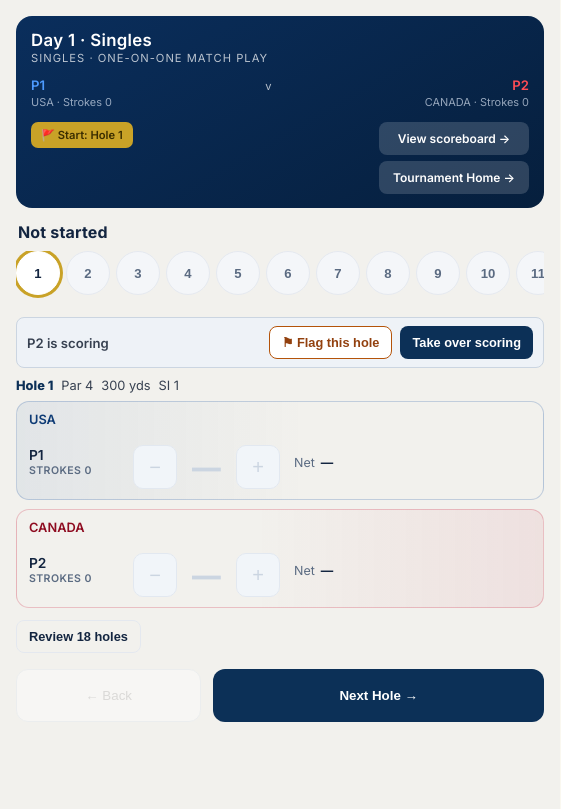
Test case: match scorecard — flag this hole (B) › a non-scorer flags several holes — later flags ADD to the set, never replace
# Flag hole 1 (current).
Click the button with test id "flag-hole-500". click: (331, 342)
box: [269,326,392,359]
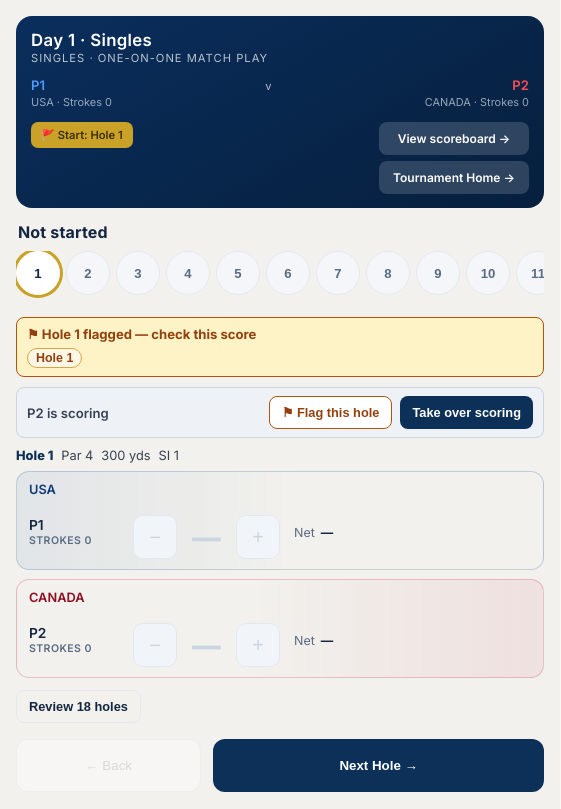
# Move to hole 2 and flag it too — the earlier hole 1 is NOT lost.
Click the button with test id "hole-dot-2". click: (88, 273)
box: [66,251,110,295]
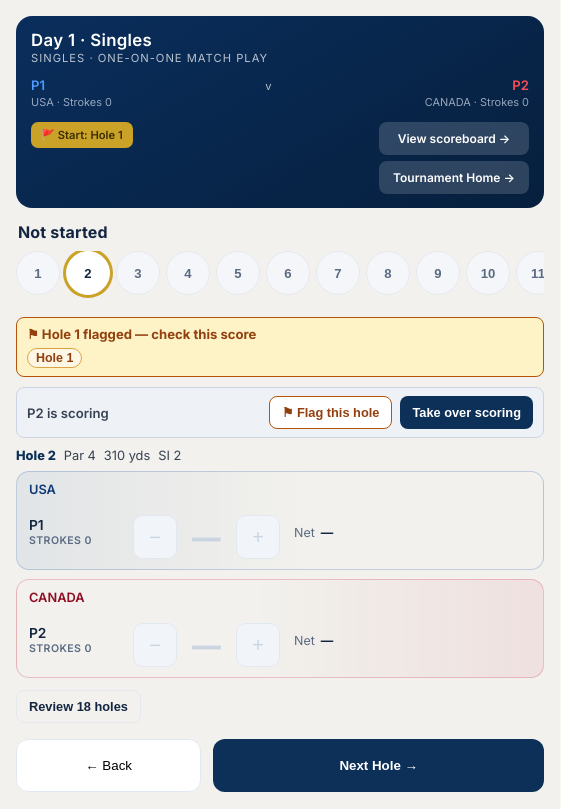
Click the button with test id "flag-hole-500". click: (331, 412)
box: [269,396,392,429]
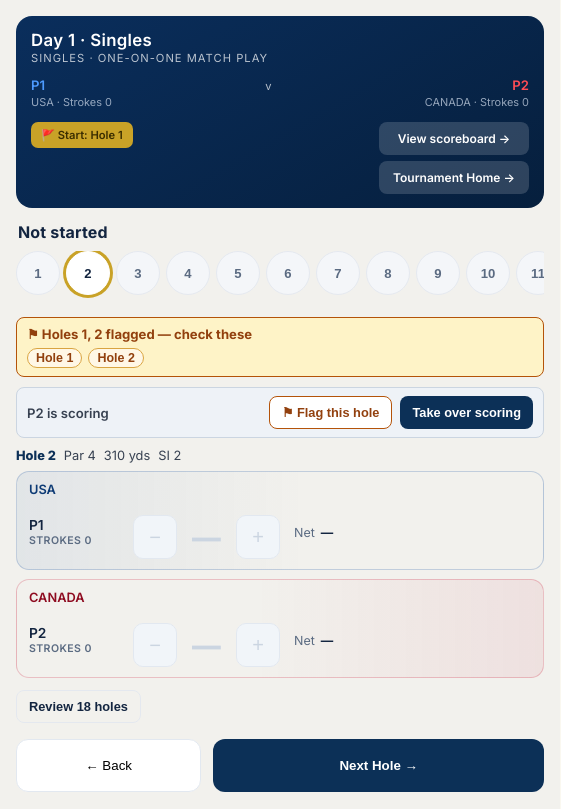
Result: the element with test id "flag-marker-500" shows "Holes 1, 2 flagged" at [16,317,544,377]
